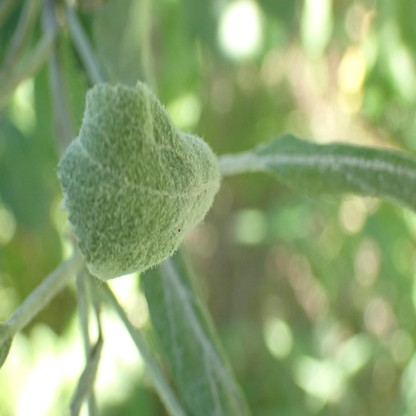powdery_mildew: (56, 79, 222, 278)
